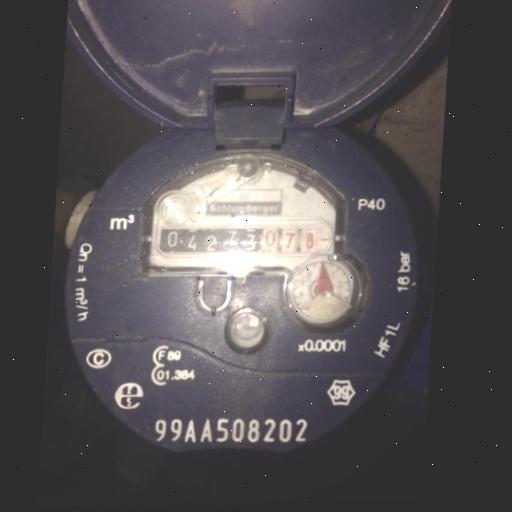0: (163, 229, 182, 251), (262, 229, 278, 253)
2: (201, 228, 221, 254)
3: (241, 228, 260, 252)
4: (181, 229, 202, 253)
7: (219, 227, 243, 253), (282, 229, 297, 253)
8: (300, 228, 319, 251)
border_water_meter_number: (154, 217, 328, 264)
